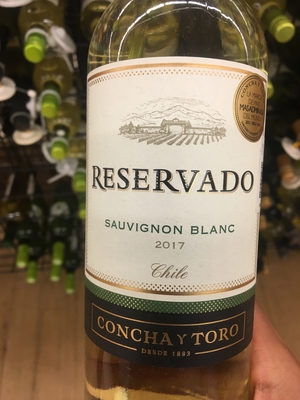reservado sauvignon blanc: (75, 7, 262, 400)
